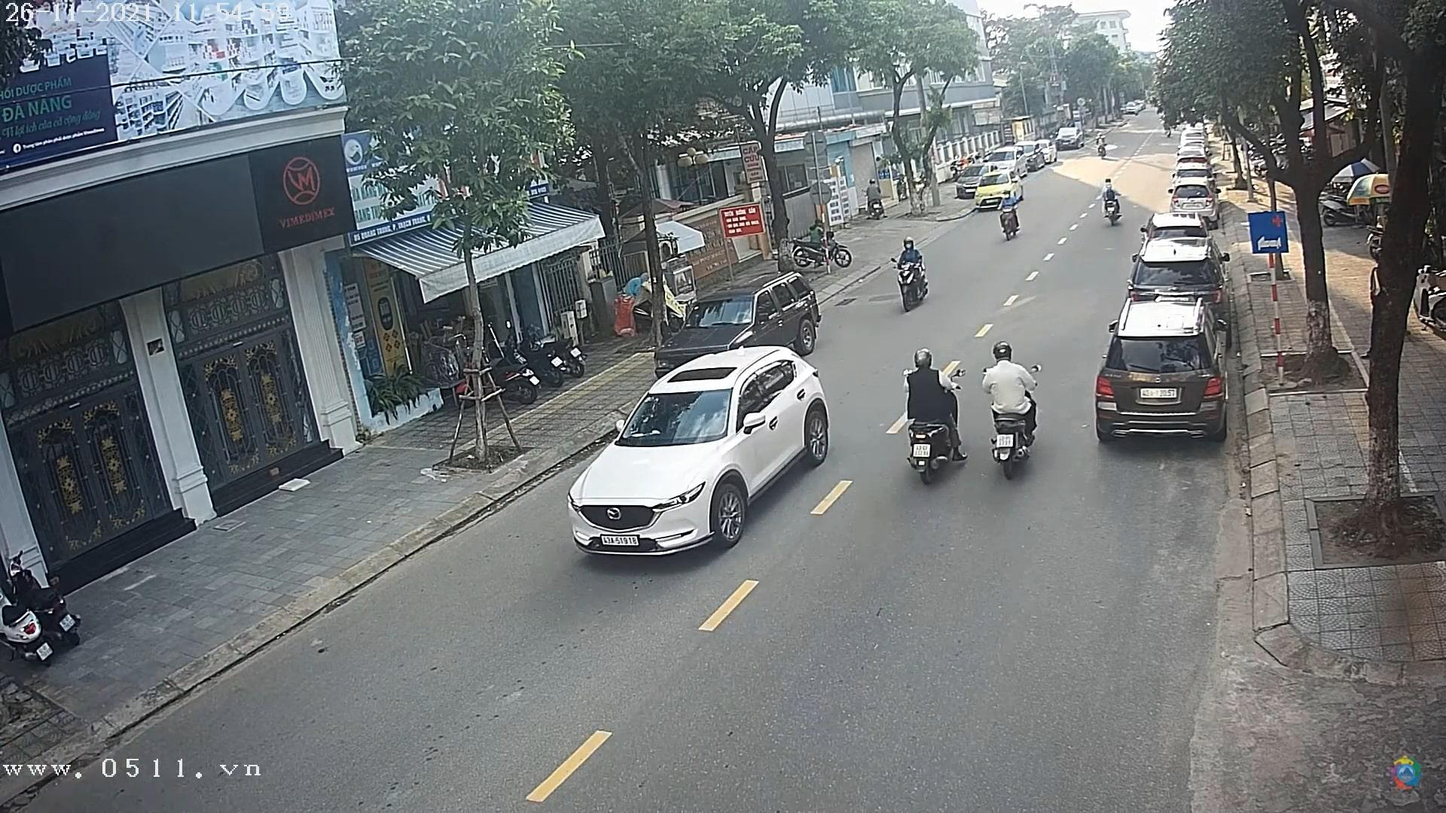car: (565, 348, 836, 558), (1097, 303, 1227, 442), (663, 267, 822, 370), (1128, 239, 1228, 304), (1134, 225, 1214, 275), (1168, 185, 1214, 213), (1057, 126, 1086, 148)
motorbike: (902, 405, 971, 482), (986, 407, 1037, 465), (893, 262, 932, 315), (1102, 189, 1124, 226), (999, 207, 1018, 241)
